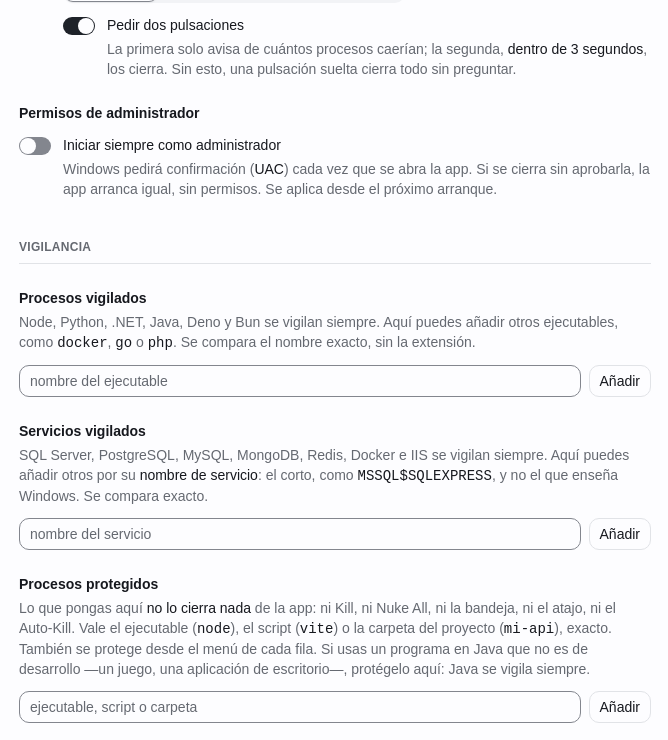
Test: procesos vigilados › no deja añadir un proceso critico de Windows, y dice por que
(page scrolled)
Step 1. Type "Svchost.exe" into the field named "Procesos vigilados" → [300, 381], box [19,365,580,397]
Then press Enter
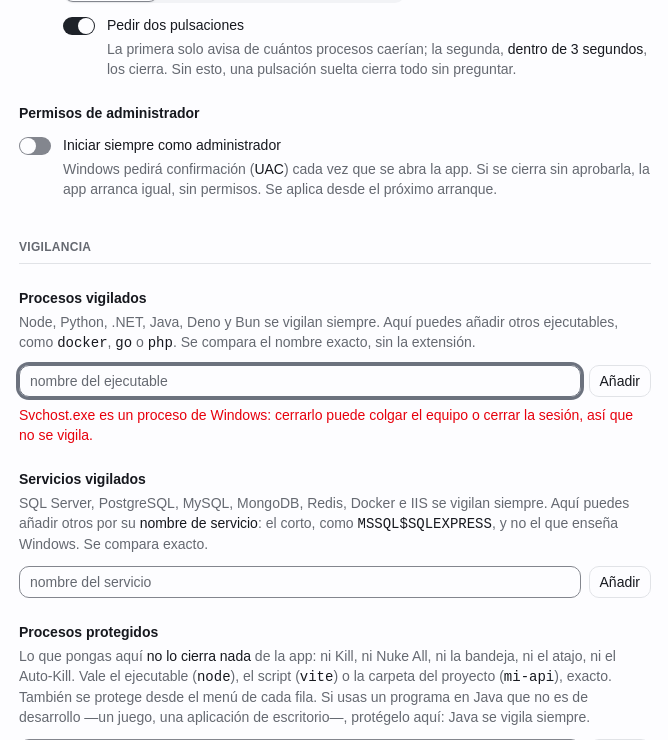
Check: the message shows "Svchost.exe es un proceso de Windows", box [19,407,633,443]
// Al volver a escribir, el aviso se va y un nombre normal entra.
Step 2. Type "docker" into the field named "Procesos vigilados" → [300, 381], box [19,365,580,397]
Then press Enter
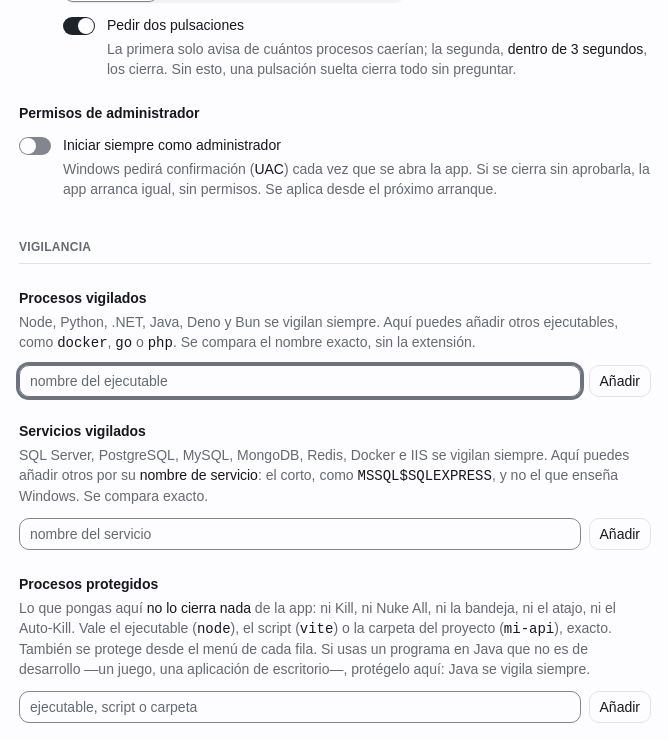
Check: the message is gone
